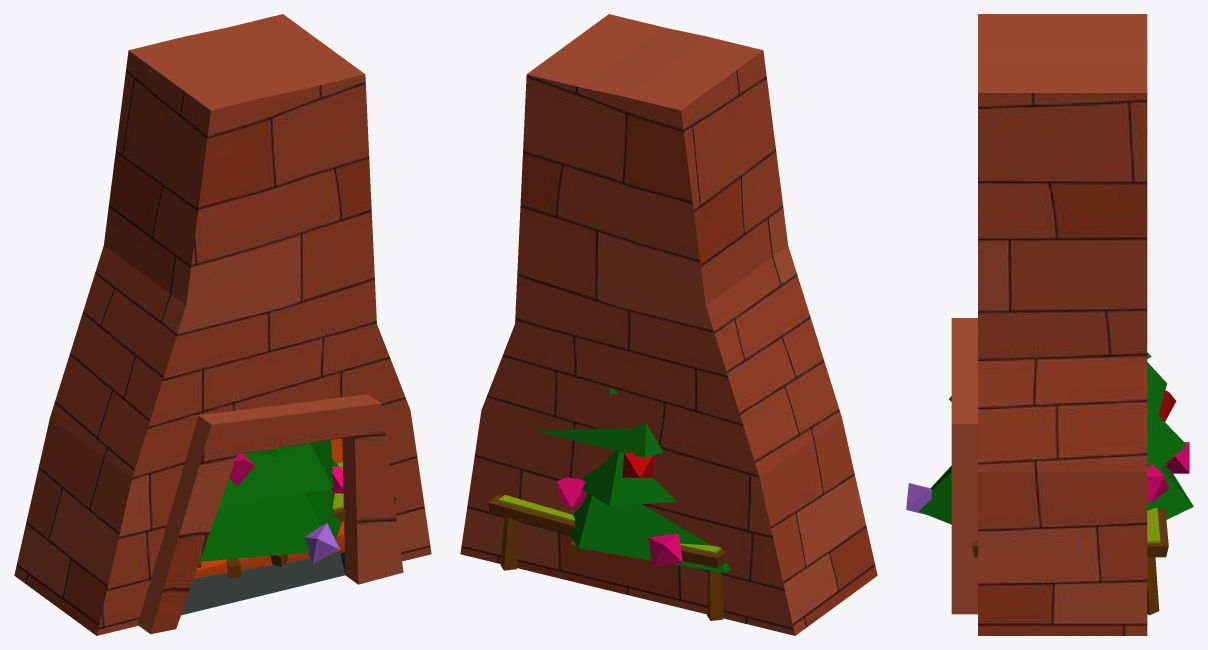
Rendered from ALLES.fbx.
3 views of the same model, side by side, from view 1: azimuth 30°, elevation 25°; view 2: azimuth 150°, elevation 25°; view 3: azimuth 270°, elevation 25° (orthographic). The views are drawn at different scales.
Parts seen in each view (by area): view 1: chimney, tree, couch; view 2: chimney, tree, table; view 3: chimney, tree, table.
Boxes of the visible parts, left/top/right/bottom form: chimney: left=14, top=14, right=431, bottom=635; tree: left=200, top=440, right=343, bottom=563; couch: left=194, top=438, right=344, bottom=578; chimney: left=460, top=14, right=877, bottom=635; tree: left=538, top=388, right=730, bottom=573; table: left=488, top=494, right=727, bottom=620; chimney: left=951, top=14, right=1147, bottom=635; tree: left=906, top=352, right=1193, bottom=524; table: left=972, top=464, right=1168, bottom=615.
Size of the model in its own units: 470 by 667 by 340.
Materials: 2 (2 with a texture image).
